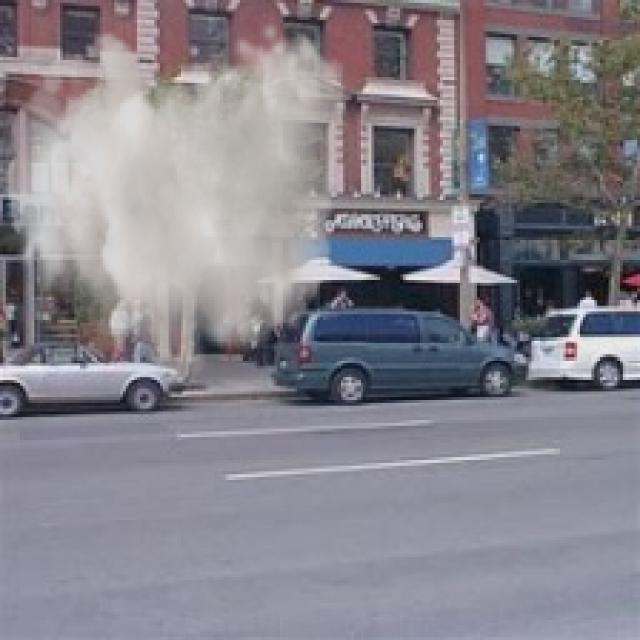Smoke: (6, 20, 348, 403)
